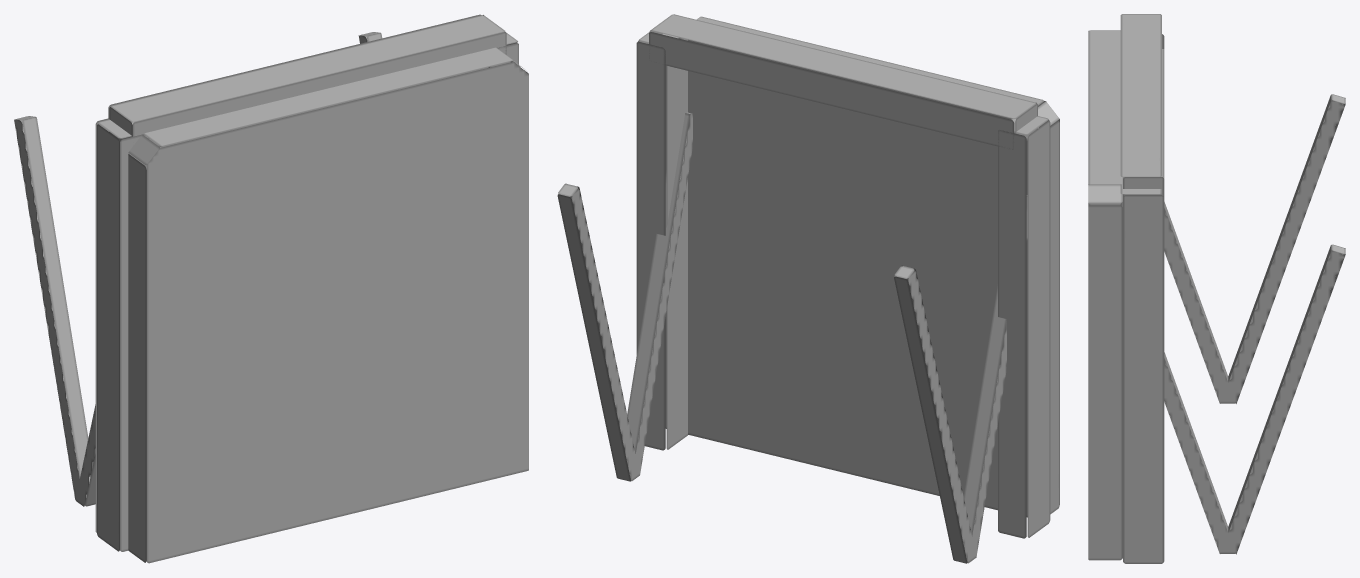
Rendered from pz_bed_bedding_01_stretcher_0_1.obj.
3 renders of one model, left to right at view 1: azimuth 30°, elevation 25°; view 2: azimuth 150°, elevation 25°; view 3: azimuth 270°, elevation 25°, orthographic. The views are drawn at different scales.
Bounding box in the file's own units: 0.95 × 0.97 × 0.5935.
Materials: 1 (1 with a texture image).
